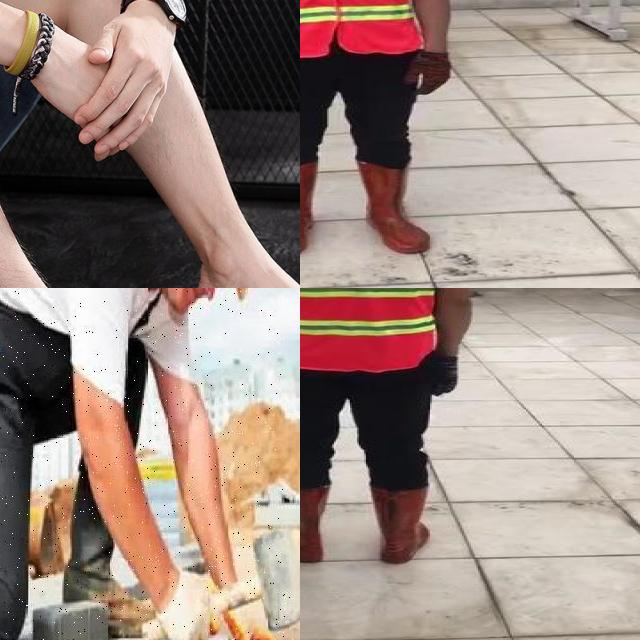boots: (54, 564, 159, 640), (361, 161, 428, 255), (369, 487, 432, 564), (300, 486, 329, 563), (300, 163, 318, 256)
hand_glove: (404, 50, 449, 93), (436, 356, 458, 396)
person: (0, 288, 283, 640), (300, 288, 492, 573), (300, 0, 460, 265)
vest: (300, 288, 455, 372), (300, 0, 421, 57)
